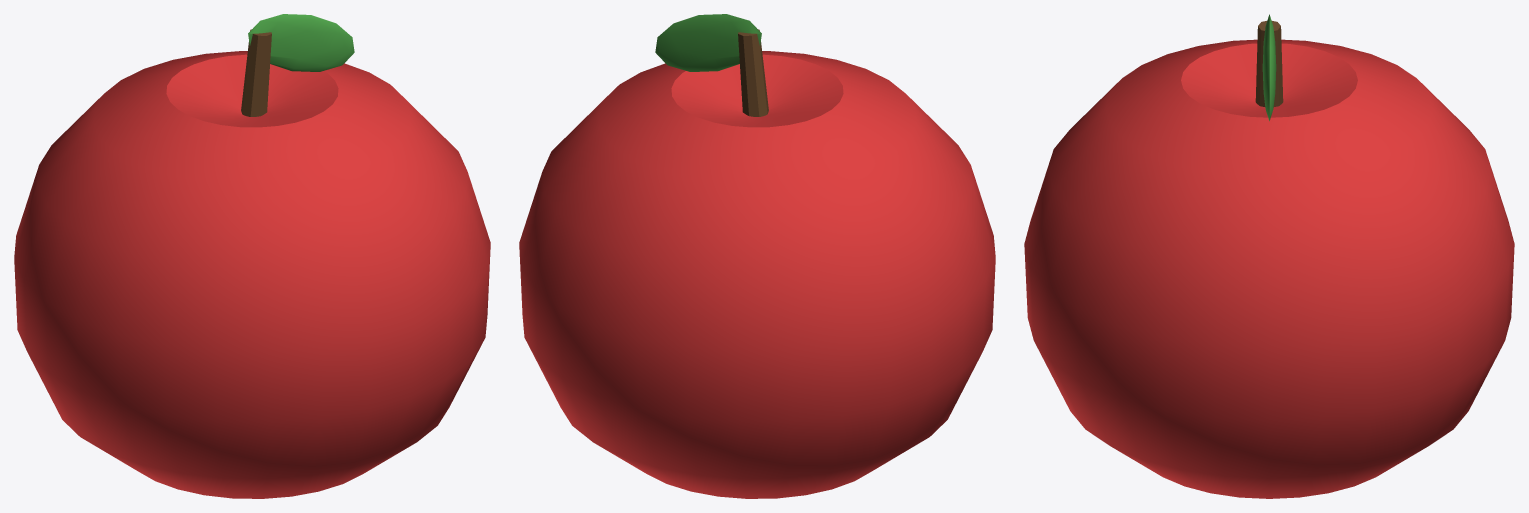
Rendered from apple.glb.
3 views of the same model, side by side, from view 1: azimuth 30°, elevation 25°; view 2: azimuth 150°, elevation 25°; view 3: azimuth 270°, elevation 25° (orthographic). The views are drawn at different scales.
Parts seen in each view (by area): view 1: apple; view 2: apple; view 3: apple.
Boxes of the visible parts, box(x1,y1,x2,y2) form: apple: box(14, 14, 490, 498); apple: box(519, 14, 995, 498); apple: box(1024, 14, 1514, 498).
Bounding box in the file's own units: 0.0799 × 0.08 × 0.0799.
